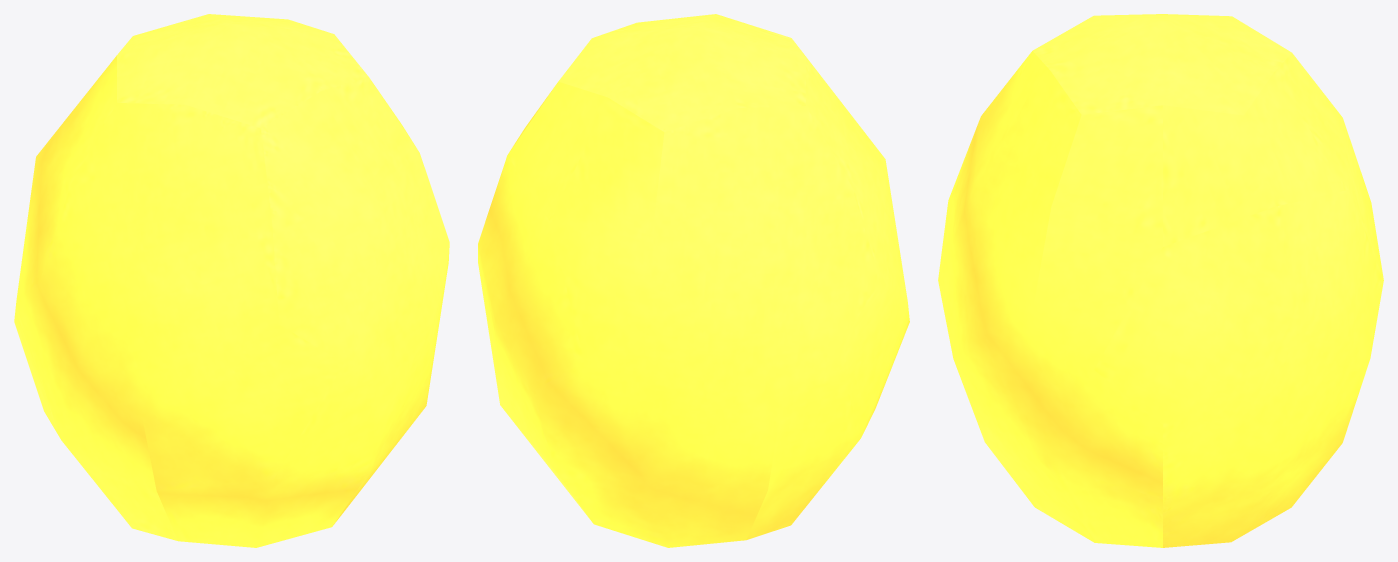
Rendered from colony_bit.glb.
The picture shows the model from 3 angles, left to right: view 1: azimuth 30°, elevation 25°; view 2: azimuth 150°, elevation 25°; view 3: azimuth 270°, elevation 25°; orthographic projection. The views are drawn at different scales.
Visible parts, largest first — view 1: colony_bit; view 2: colony_bit; view 3: colony_bit.
Boxes of the visible parts, x1,y1,x2,y2 form: colony_bit: [14, 14, 449, 547]; colony_bit: [478, 14, 909, 547]; colony_bit: [938, 14, 1383, 547].
Bounding box in the file's own units: 0.4155 × 0.5365 × 0.4153.
1 material, 1 textured.
